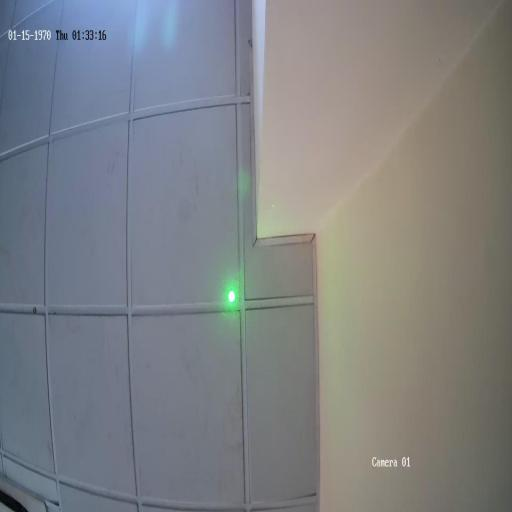laser: (229, 288, 236, 308)
